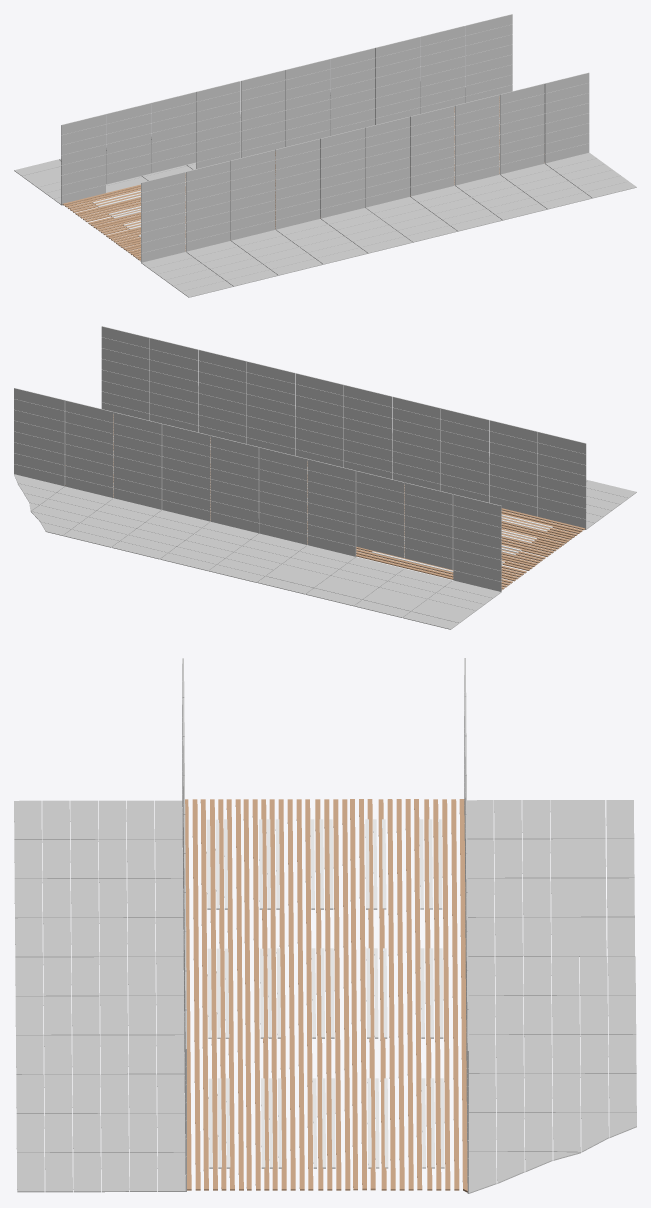
File: Ceiling_Old.fbx
3 views of the same model, one above another, from view 1: azimuth 30°, elevation 25°; view 2: azimuth 150°, elevation 25°; view 3: azimuth 270°, elevation 25° (orthographic). The views are drawn at different scales.
Parts seen in each view (by area): view 1: sv-408; view 2: sv-408; view 3: sv-408.
Boxes of the visible parts, left/top/right/bottom form: sv-408: left=14, top=14, right=636, bottom=297; sv-408: left=14, top=326, right=636, bottom=629; sv-408: left=14, top=658, right=636, bottom=1193.
Size of the model in its own units: 9153 by 1554 by 6132.
